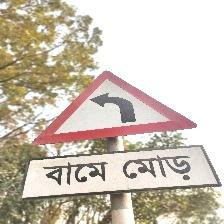Left-Turn: (22, 70, 219, 200)
